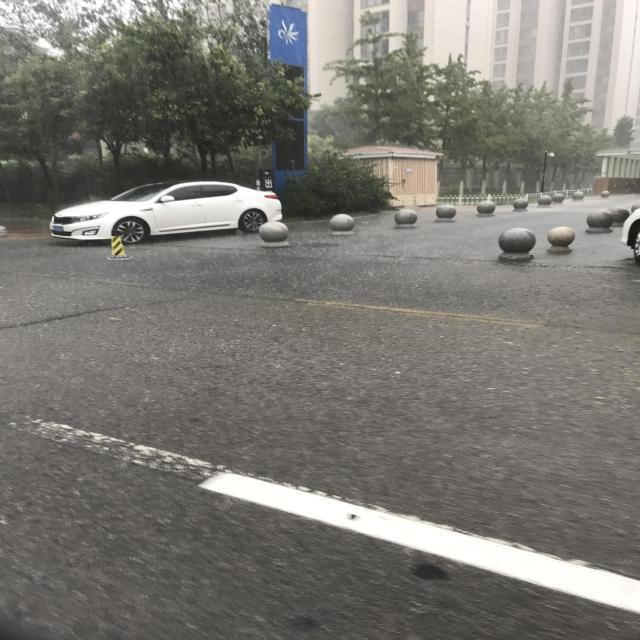car: (180, 357, 244, 592)
